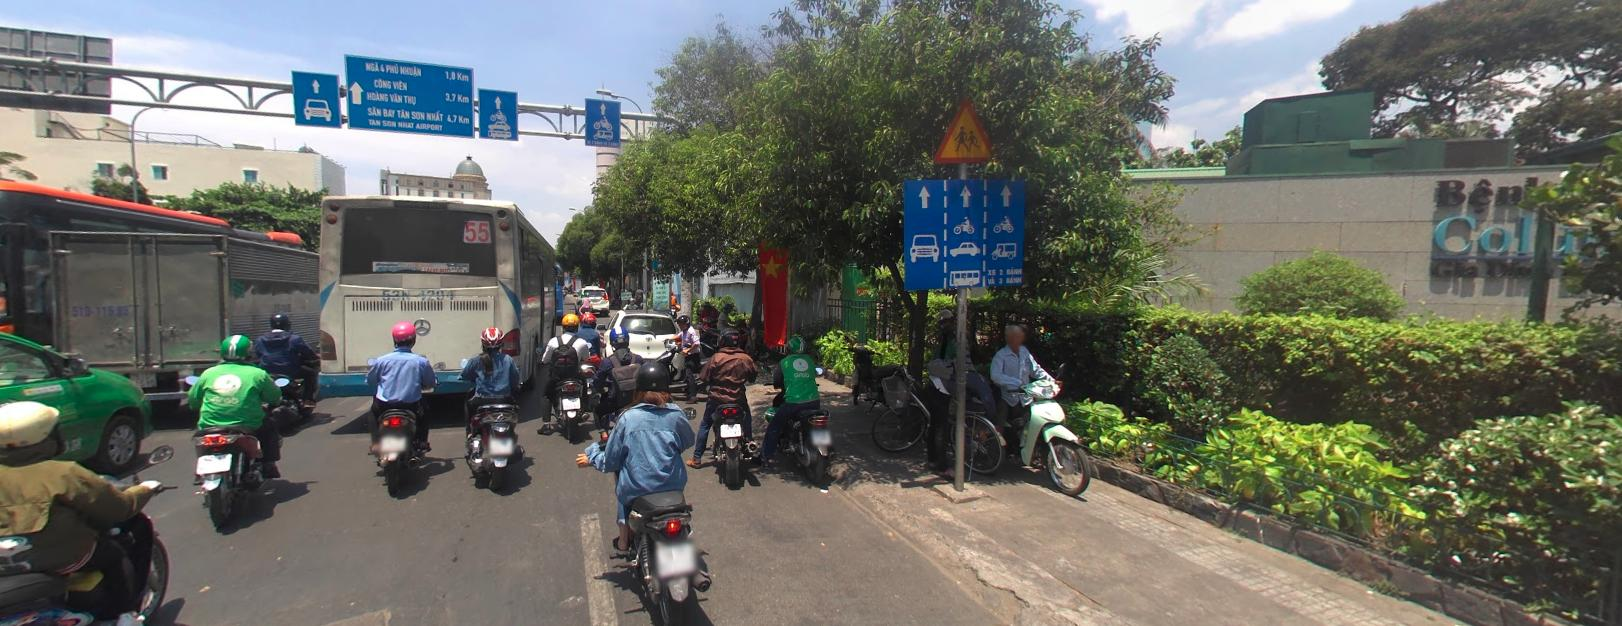Nguy hiem: (933, 96, 999, 163), (934, 101, 994, 163)
